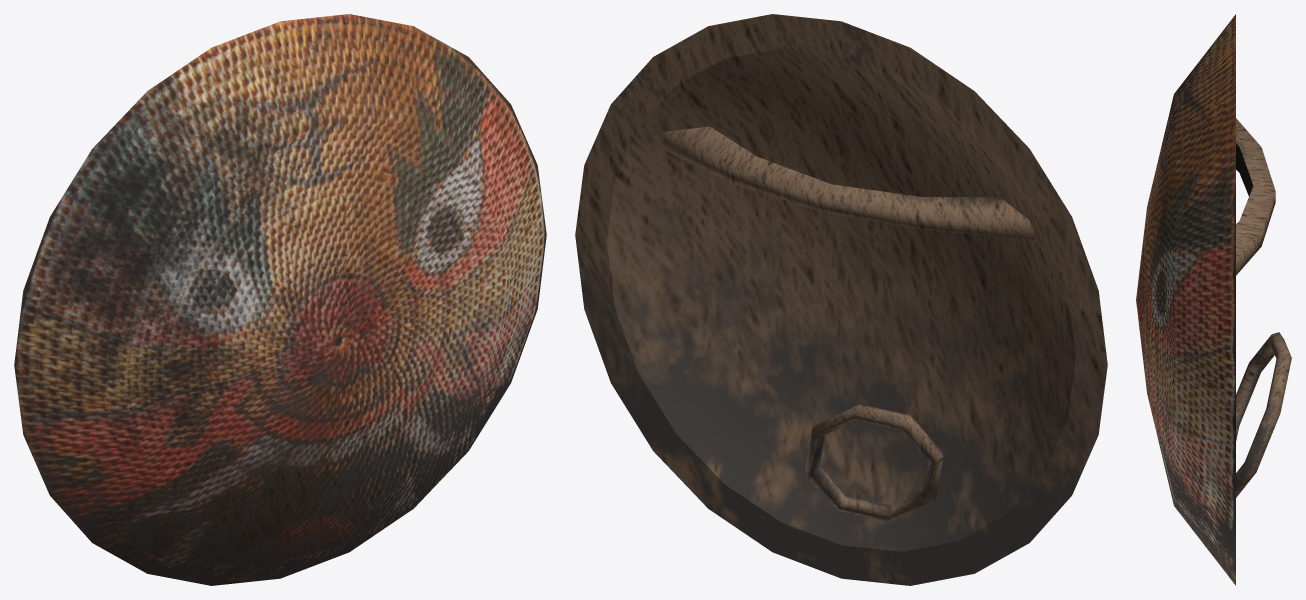
Rendered from weapon_shield_test.fbx.
3 renders of one model, left to right at view 1: azimuth 30°, elevation 25°; view 2: azimuth 150°, elevation 25°; view 3: azimuth 270°, elevation 25°, orthographic. The views are drawn at different scales.
Parts seen in each view (by area): view 1: weapon_shield; view 2: weapon_shield; view 3: weapon_shield.
Boxes of the visible parts, left/top/right/bottom form: weapon_shield: left=14, top=14, right=546, bottom=585; weapon_shield: left=575, top=14, right=1107, bottom=585; weapon_shield: left=1136, top=14, right=1291, bottom=585.
Bounding box in the file's own units: 105 × 105 × 28.38.
